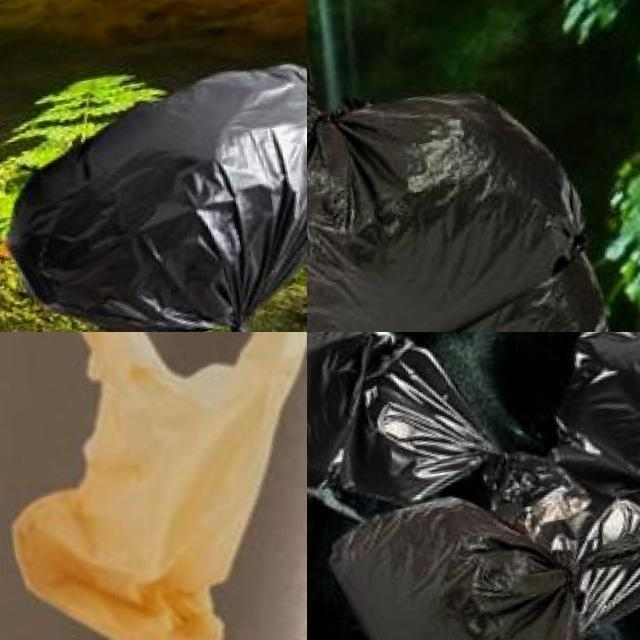waste: (307, 0, 624, 332), (0, 332, 307, 640), (0, 55, 307, 332), (322, 482, 610, 640), (500, 332, 640, 626), (307, 332, 506, 513)
